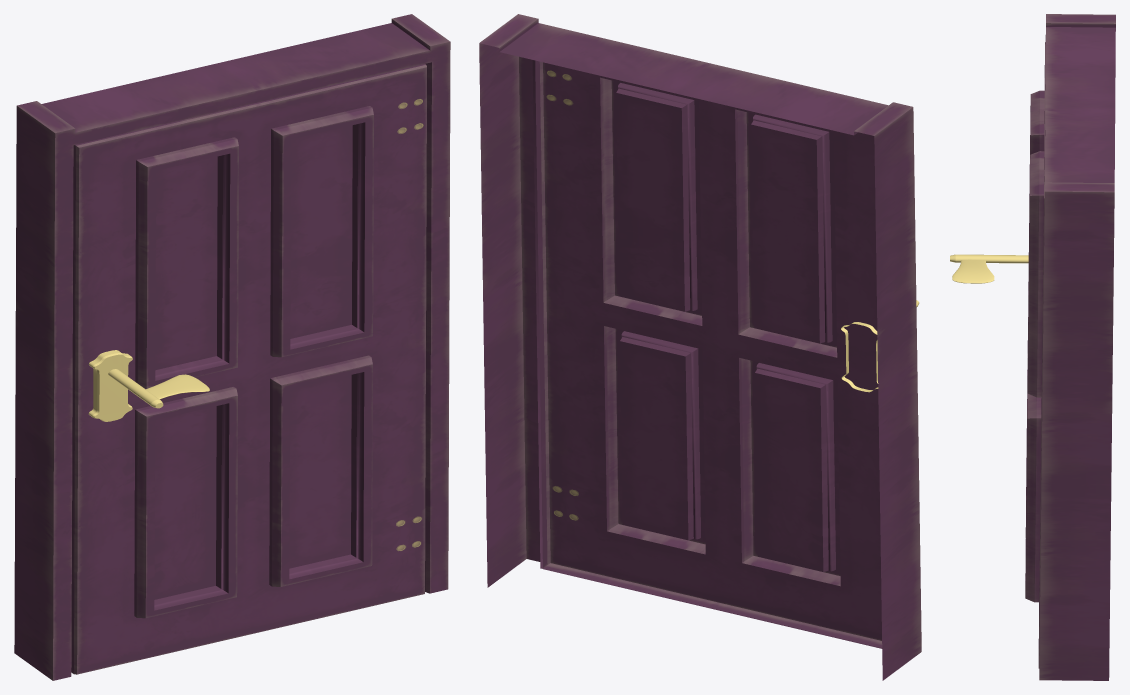
The model's file is coraline-copia.gltf.
3 views of the same model, side by side, from view 1: azimuth 30°, elevation 25°; view 2: azimuth 150°, elevation 25°; view 3: azimuth 270°, elevation 25° (orthographic). The views are drawn at different scales.
Visible parts, largest first — view 1: Door; view 2: Door; view 3: Door.
Boxes of the visible parts, x1,y1,x2,y2 form: Door: (14,14,450,680); Door: (479,14,921,680); Door: (950,14,1115,680).
Bounding box in the file's own units: 15.65 × 20.52 × 6.23.
Materials: 1 (1 with a texture image).
